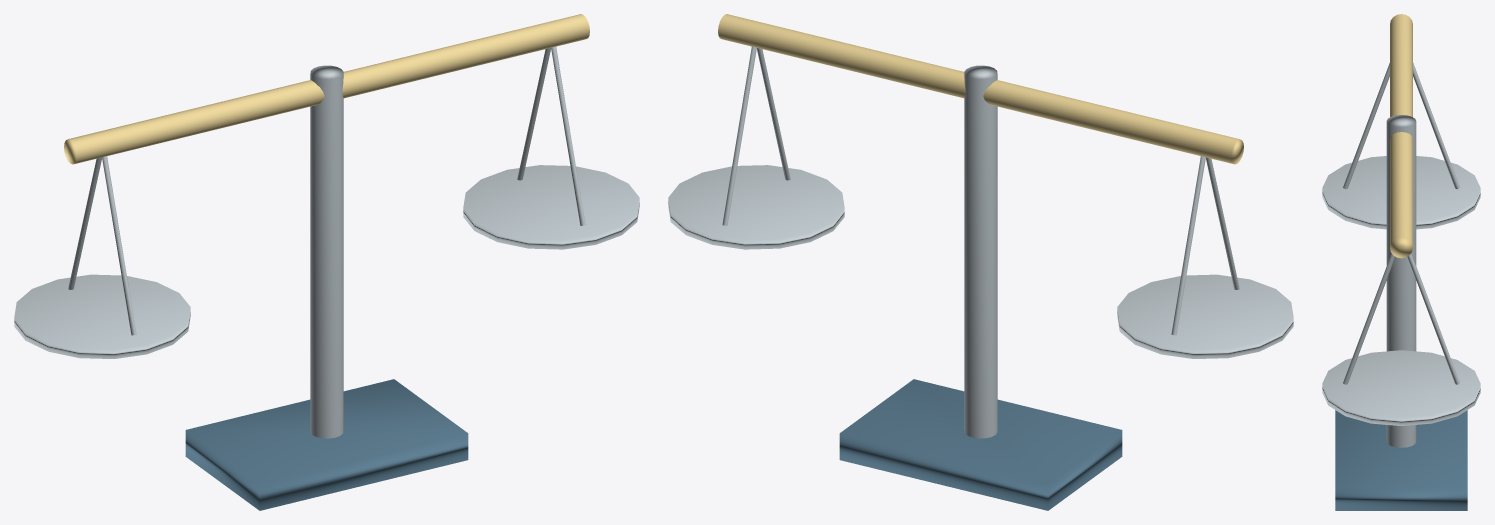
File: scale-balance.glb
3 renders of one model, left to right at view 1: azimuth 30°, elevation 25°; view 2: azimuth 150°, elevation 25°; view 3: azimuth 270°, elevation 25°, orthographic. The views are drawn at different scales.
Visible parts, largest first — view 1: pan (×2), base, balance_beam, pillar, suspension (×4); view 2: pan (×2), base, balance_beam, pillar, suspension (×4); view 3: pan (×2), base, balance_beam, pillar, suspension (×4).
Part boxes in pixels (bbox=[...]): pan (×2): bbox=[14, 165, 639, 358]; base: bbox=[185, 379, 468, 510]; balance_beam: bbox=[64, 14, 589, 164]; pillar: bbox=[310, 65, 343, 438]; suspension (×4): bbox=[68, 46, 585, 335]; pan (×2): bbox=[668, 165, 1293, 358]; base: bbox=[839, 379, 1122, 510]; balance_beam: bbox=[718, 14, 1243, 164]; pillar: bbox=[964, 65, 997, 438]; suspension (×4): bbox=[722, 46, 1239, 335]; pan (×2): bbox=[1322, 156, 1480, 425]; base: bbox=[1335, 410, 1467, 510]; balance_beam: bbox=[1390, 14, 1412, 258]; pillar: bbox=[1386, 115, 1416, 447]; suspension (×4): bbox=[1343, 63, 1459, 384].
Bounding box in the file's own units: 1.88 × 1.15 × 0.48.
